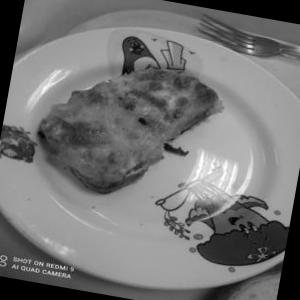cheese_sandwich: (8, 23, 230, 228)
